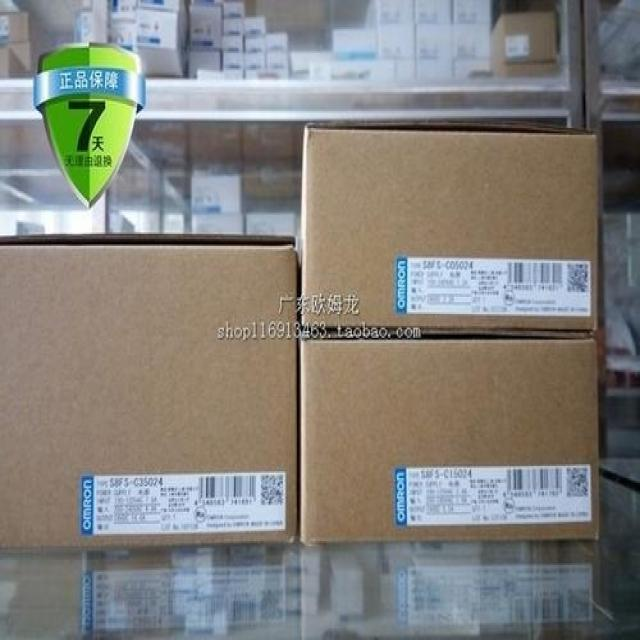box: (0, 236, 301, 548), (297, 331, 599, 548), (301, 123, 598, 336)
